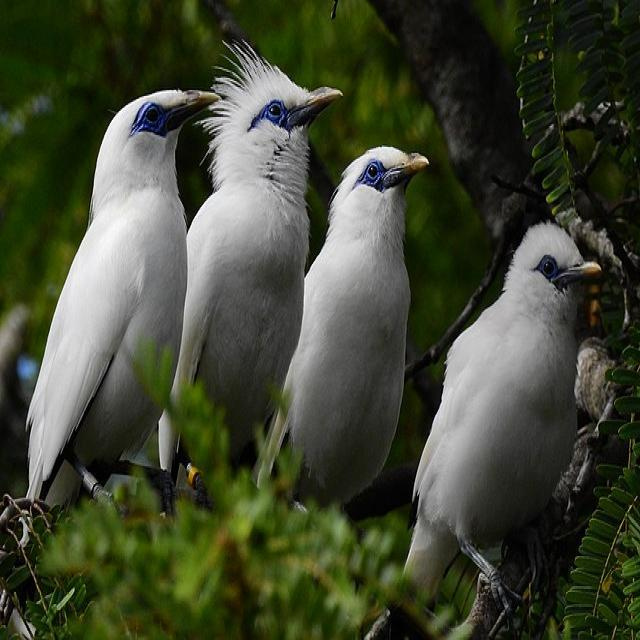Jalak Bali: (15, 68, 225, 547), (423, 193, 611, 632), (178, 34, 344, 482), (282, 118, 432, 534)
